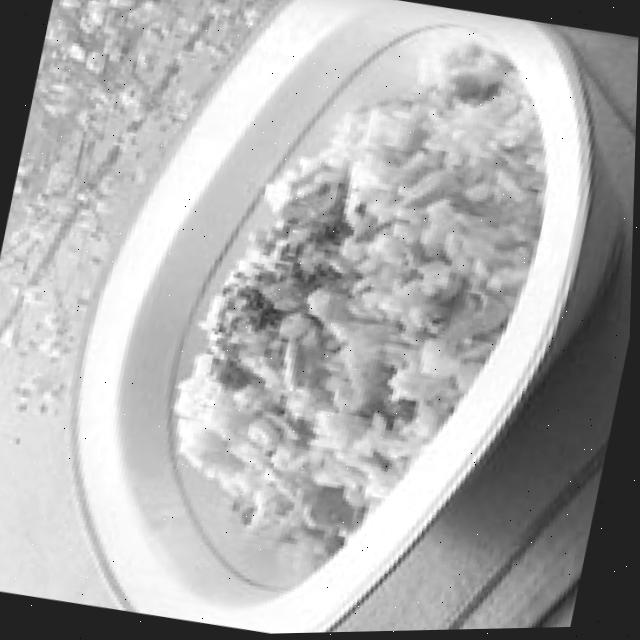米饭主食: (18, 0, 631, 639)
